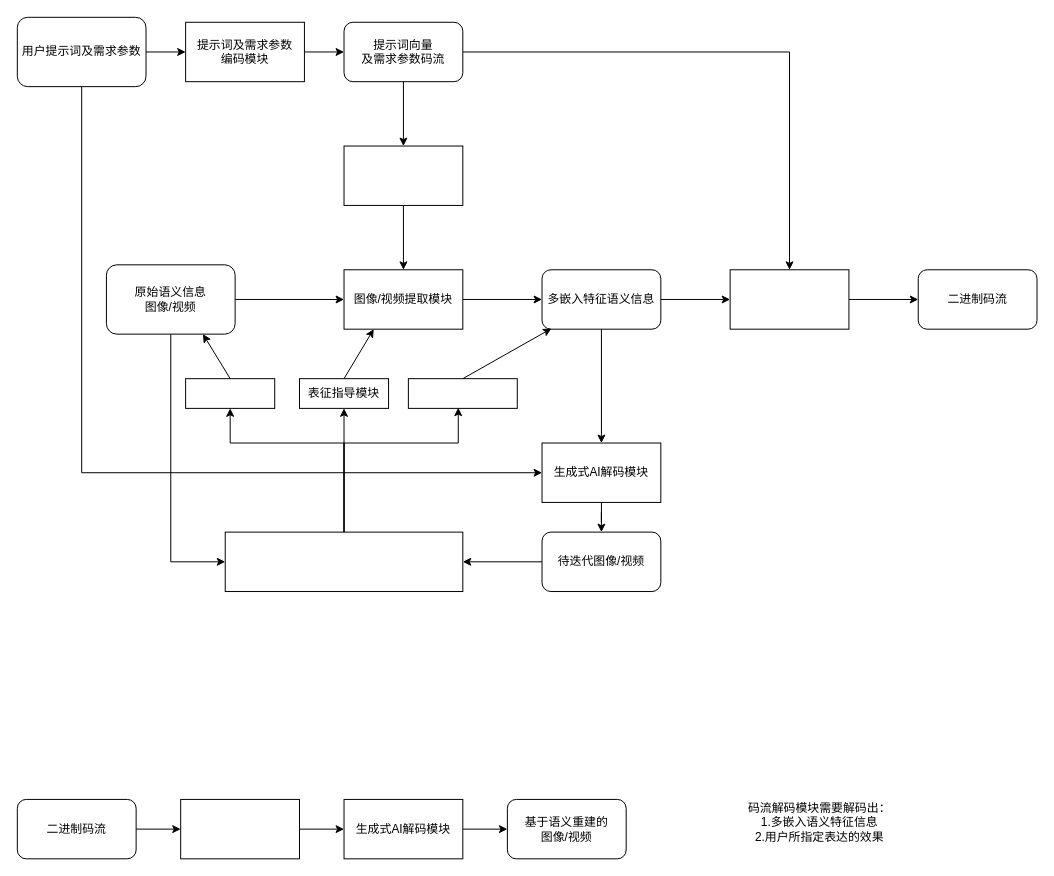
The diagram is 1054 pixels wide and 876 high, and some of its shapes have lost their labels. Each missing label, with the centre of its shape:
图像质量综合评价模块: the point at 343,561
多嵌入特征优化模块: the point at 462,393
提示词向量解码模块: the point at 403,175
码流解码模块: the point at 239,828
语义优化模块: the point at 230,393
语义信息编码及码流压缩模块: the point at 789,299
